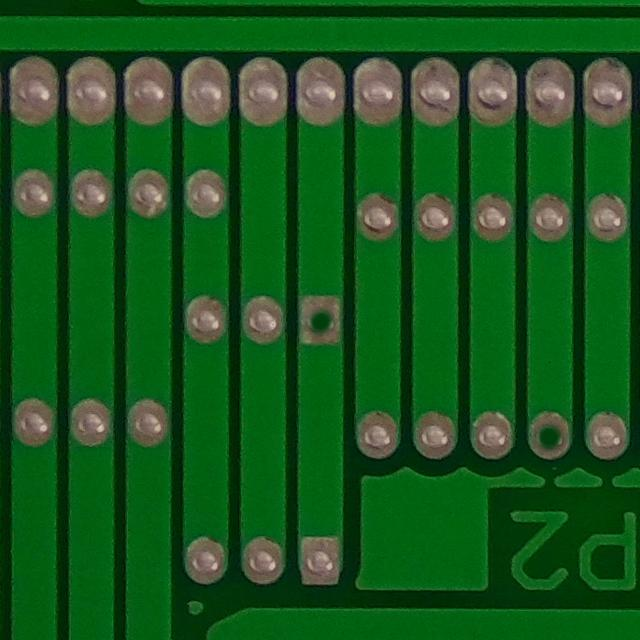missing_hole: (294, 287, 347, 353)
